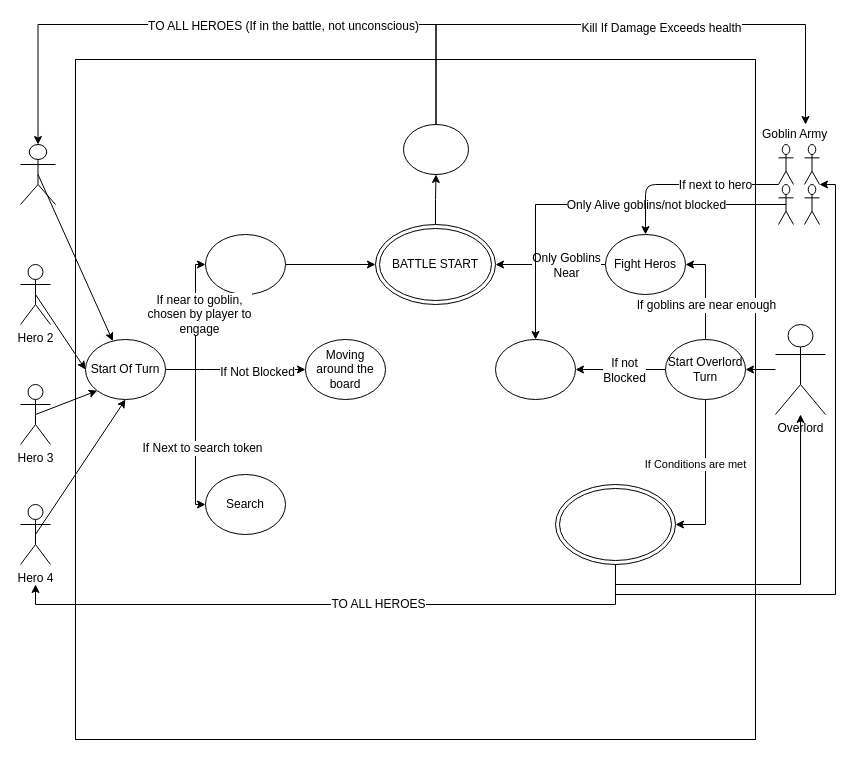
The diagram is 861 pixels wide and 757 high, and some of its shapes have lost their labels. Each missing label, with the centre of its shape:
"Damage/ Stamina" belongs at pixel 435 149.
"Hero 1" belongs at pixel 38 174.
"Move Goblins" belongs at pixel 535 369.
"OVERLORD CARD" belongs at pixel 615 524.
"Start Of Battle" belongs at pixel 245 264.
